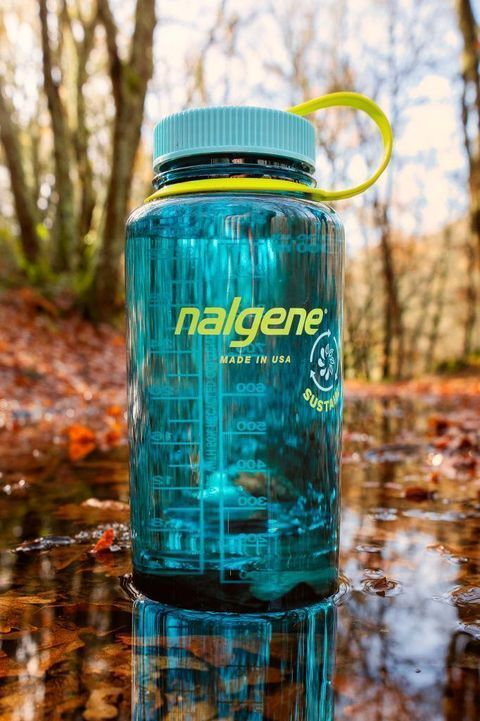waterbottle: (122, 87, 396, 618)
